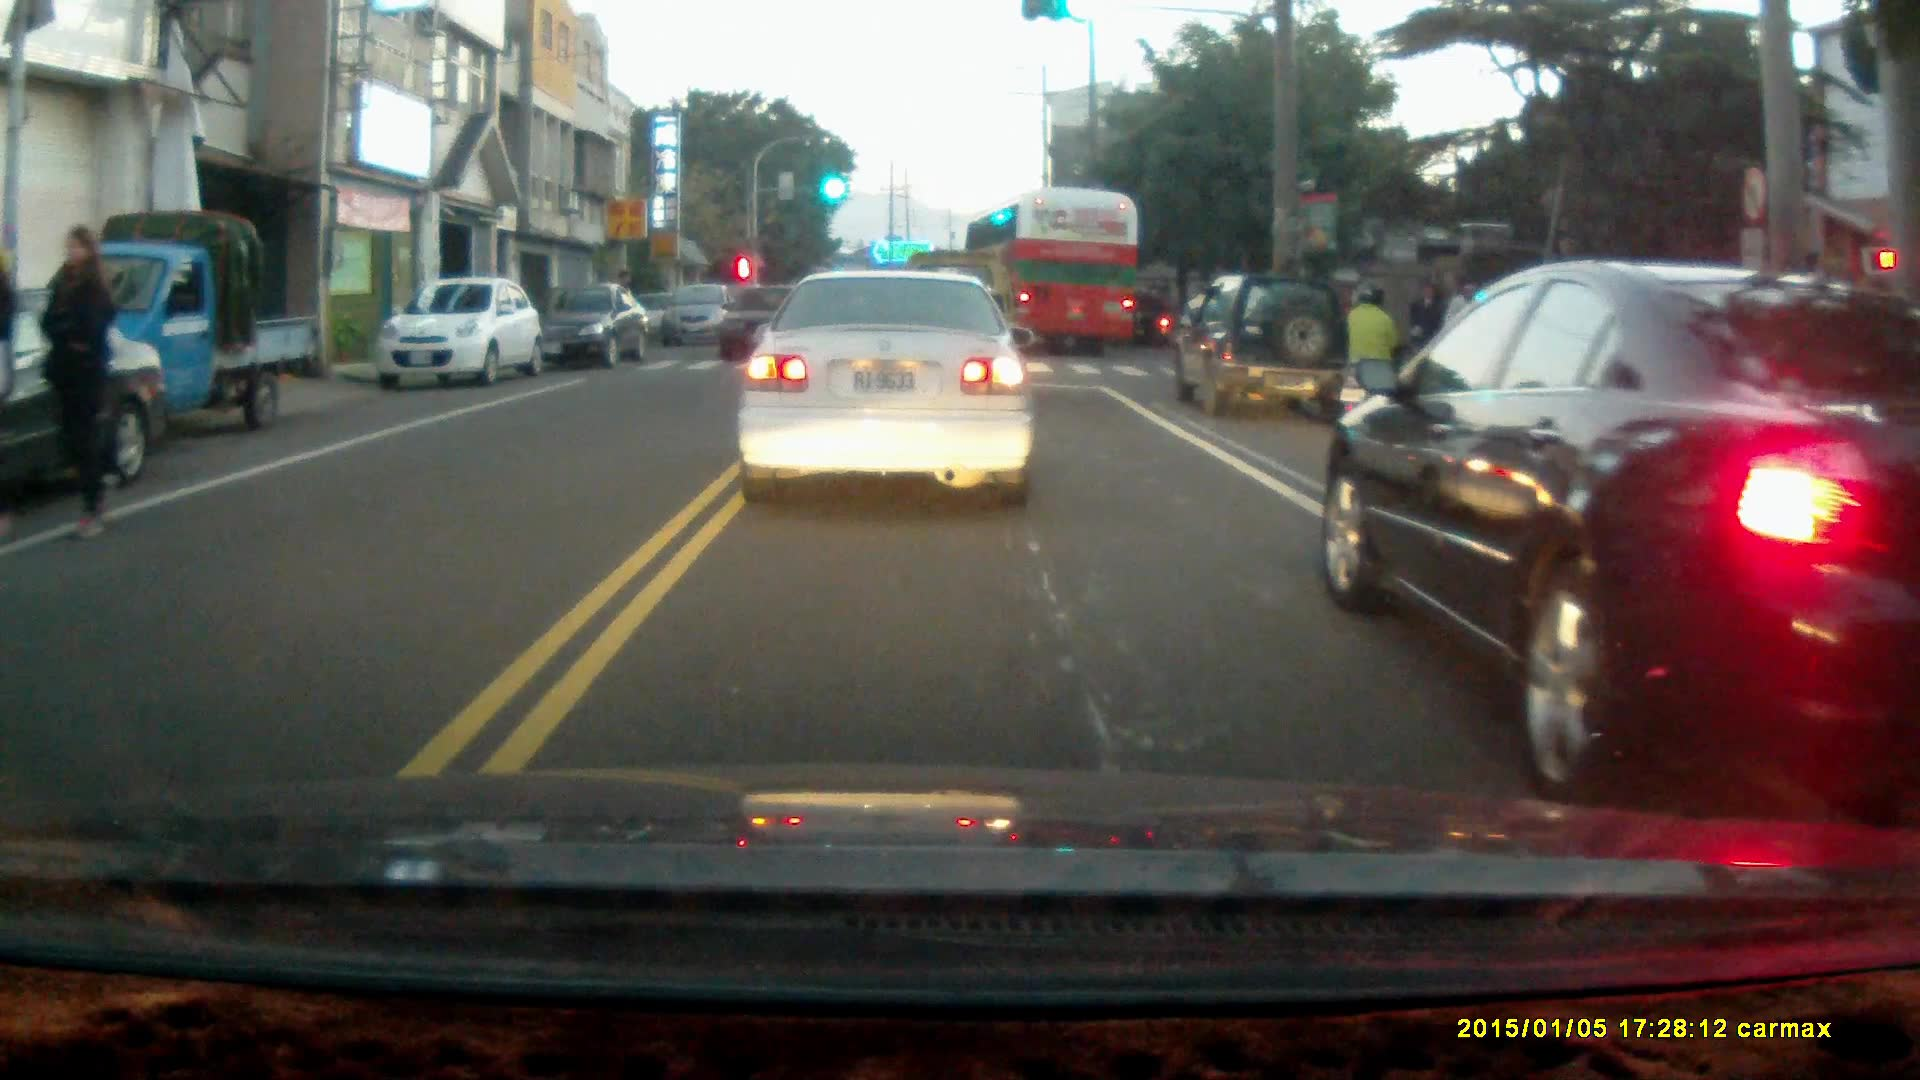pedestrian: (34, 223, 116, 540), (1405, 276, 1448, 392)
rider: (1334, 283, 1400, 433), (1116, 292, 1173, 348)
vehicle: (1322, 259, 1920, 812), (731, 267, 1035, 512), (37, 210, 308, 437), (1, 284, 174, 515), (963, 189, 1140, 356), (1172, 275, 1357, 425), (376, 280, 536, 391), (539, 282, 656, 371), (655, 286, 741, 355)
